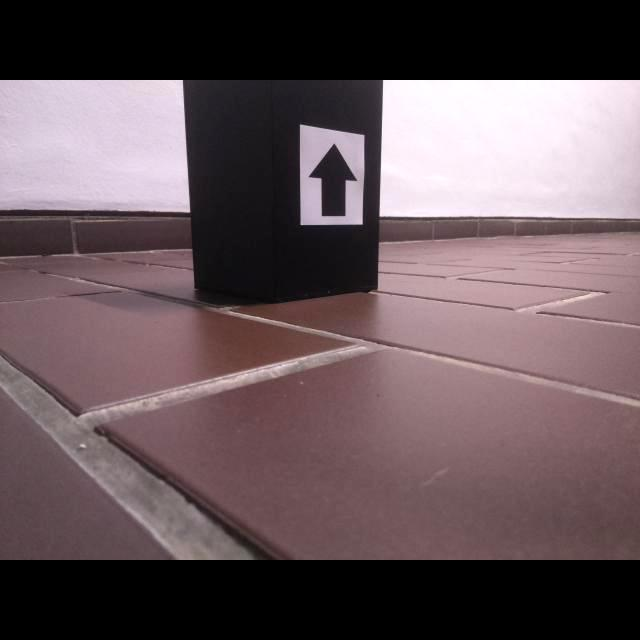UP: (307, 144, 358, 217)
